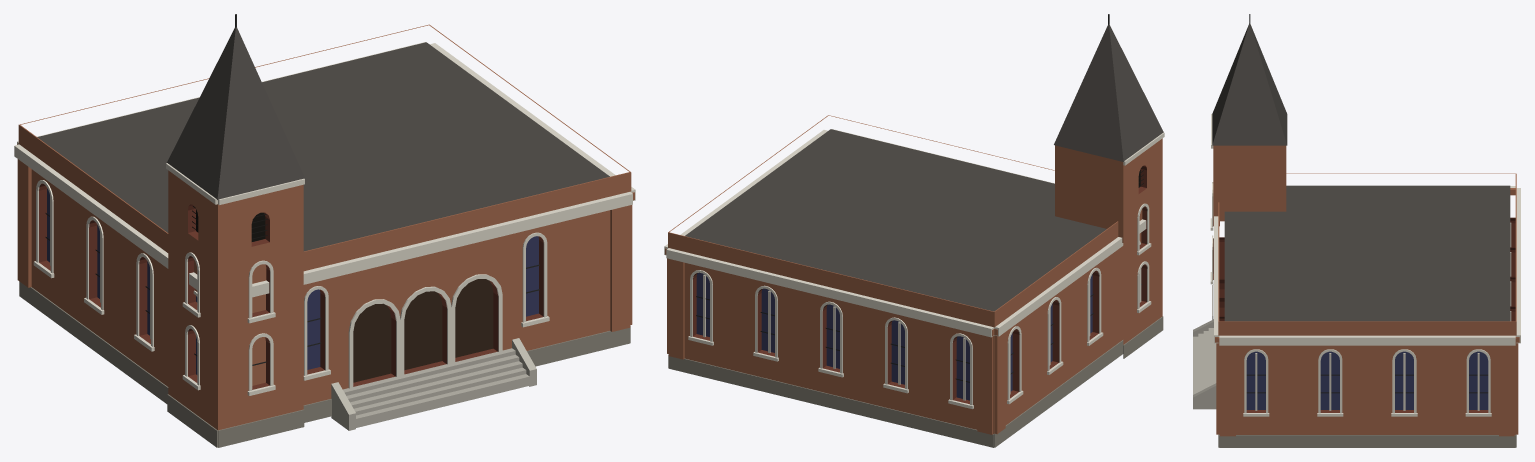
Rendered from ch-church-of-christ-state-1961.glb.
The picture shows the model from 3 angles, left to right: view 1: azimuth 30°, elevation 25°; view 2: azimuth 150°, elevation 25°; view 3: azimuth 270°, elevation 25°; orthographic projection. The views are drawn at different scales.
Parts seen in each view (by area): view 1: kit-ch-church-of-christ-state-1961; view 2: kit-ch-church-of-christ-state-1961; view 3: kit-ch-church-of-christ-state-1961.
Part boxes in pixels (x1,y1,x2,y2): kit-ch-church-of-christ-state-1961: (14,14,635,447); kit-ch-church-of-christ-state-1961: (664,14,1164,447); kit-ch-church-of-christ-state-1961: (1193,14,1520,447).
Size of the model in its own units: 20.79 by 19.02 by 18.8.
